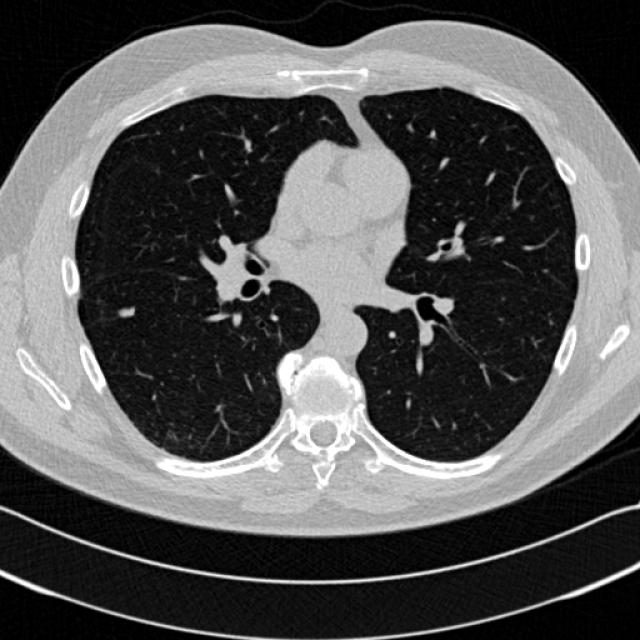nodule: (110, 296, 140, 326)
